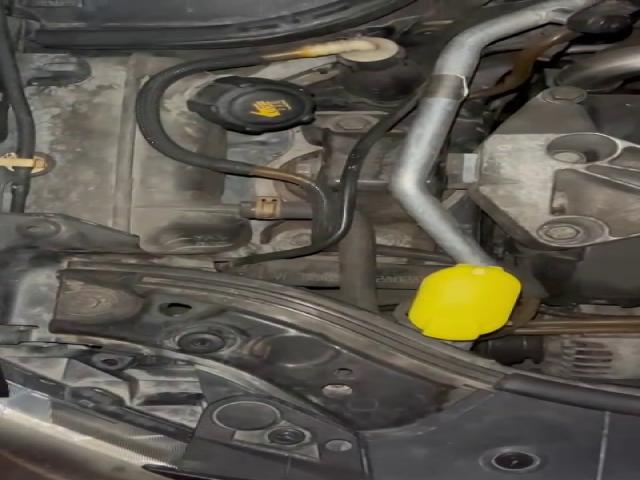antifreeze_tank: (33, 55, 247, 253), (159, 73, 314, 158)
